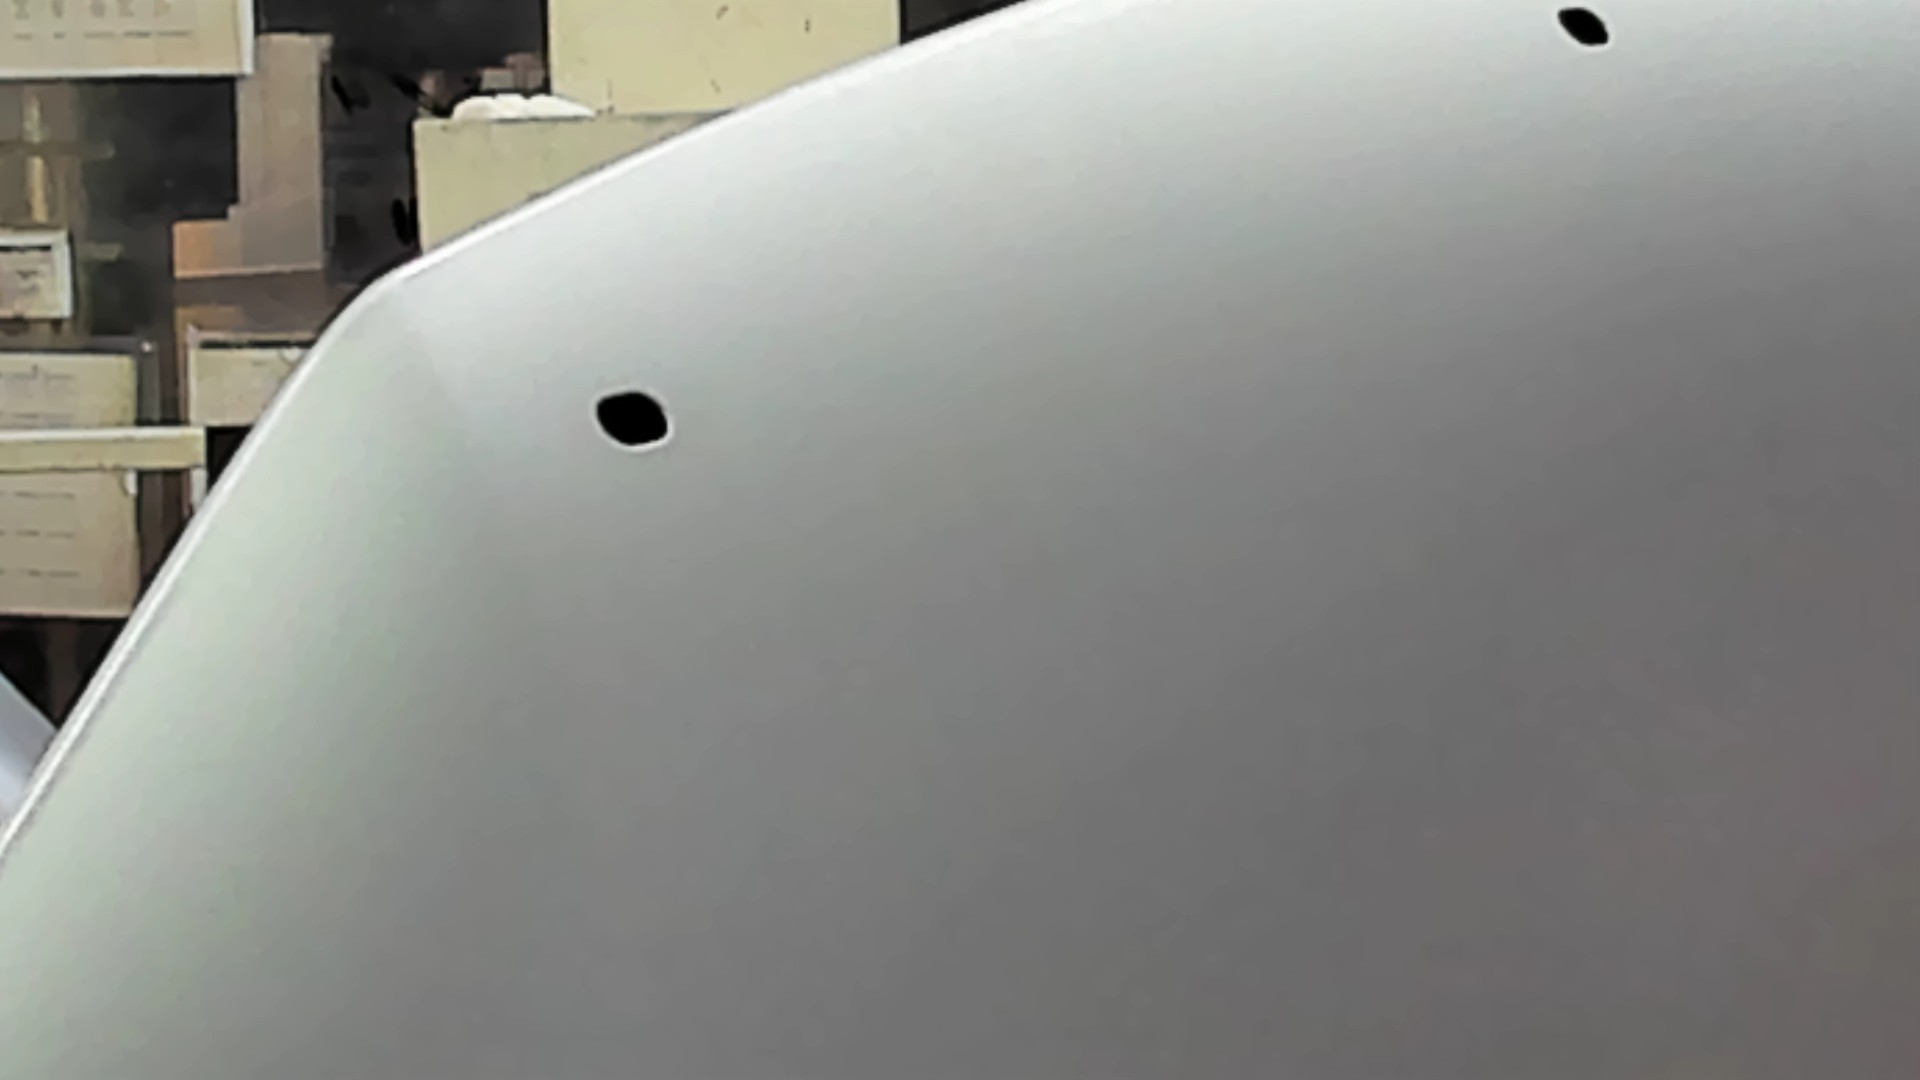amorfo: (591, 385, 679, 451), (1552, 4, 1615, 53)
